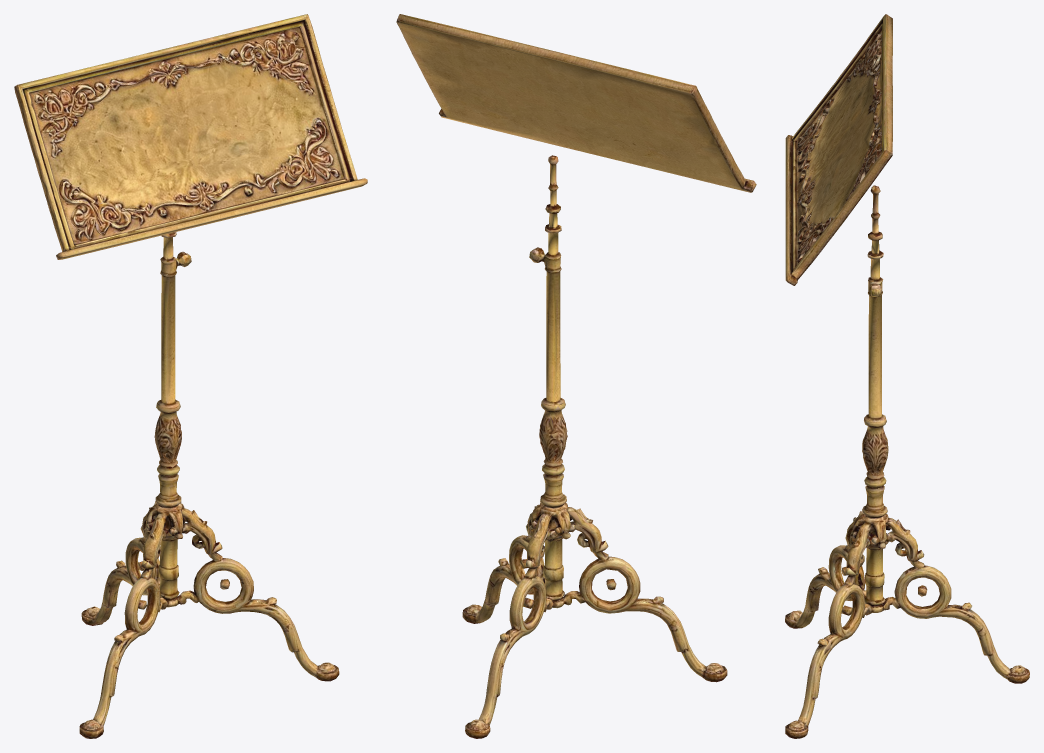
Rendered from stand.glb.
3 renders of one model, left to right at view 1: azimuth 30°, elevation 25°; view 2: azimuth 150°, elevation 25°; view 3: azimuth 270°, elevation 25°, orthographic. The views are drawn at different scales.
Parts seen in each view (by area): view 1: mesh; view 2: mesh; view 3: mesh.
Part boxes in pixels (x1=…): mesh: x1=14, y1=14, x2=367, y2=738; mesh: x1=396, y1=14, x2=756, y2=738; mesh: x1=785, y1=14, x2=1029, y2=738.
Size of the model in its own units: 0.5184 by 1 by 0.3709.
Materials: 1 (1 with a texture image).
